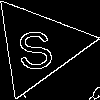S: (13, 21, 56, 72)
